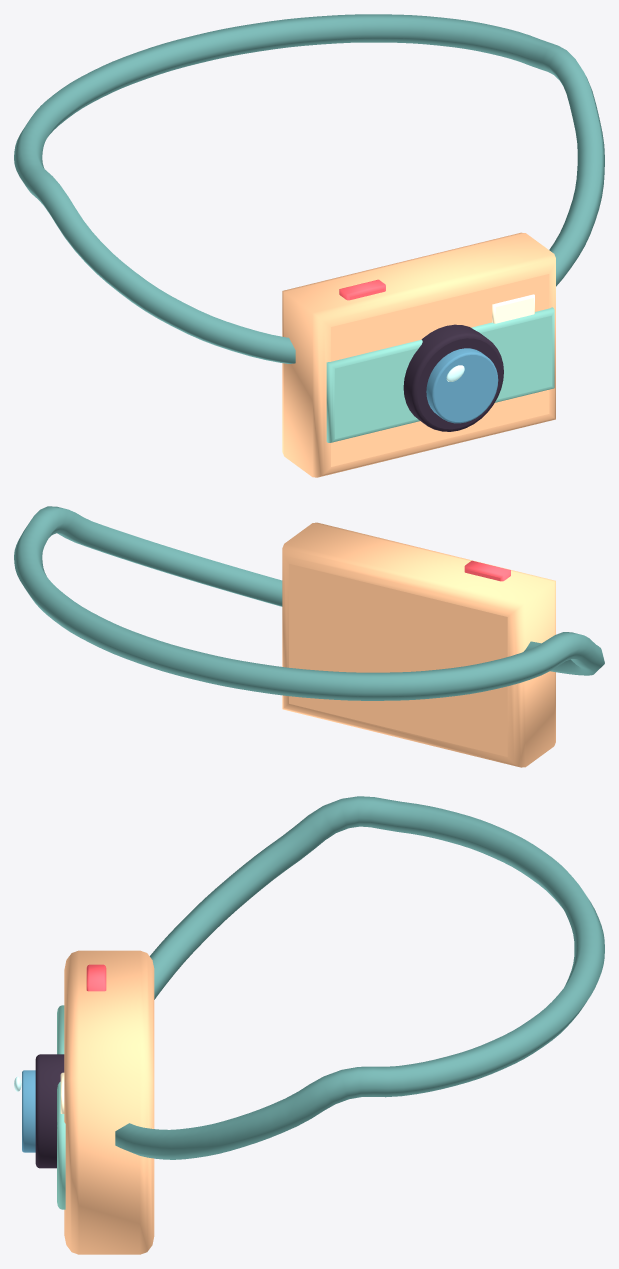
The model's file is pocket_camera.glb.
3 views of the same model, one above another, from view 1: azimuth 30°, elevation 25°; view 2: azimuth 150°, elevation 25°; view 3: azimuth 270°, elevation 25° (orthographic). The views are drawn at different scales.
Parts seen in each view (by area): view 1: Pocket Paparazzi; view 2: Pocket Paparazzi; view 3: Pocket Paparazzi.
Boxes of the visible parts, left/top/right/bottom form: Pocket Paparazzi: left=14, top=14, right=604, bottom=477; Pocket Paparazzi: left=14, top=506, right=604, bottom=767; Pocket Paparazzi: left=14, top=796, right=604, bottom=1254.
Bounding box in the file's own units: 1 × 0.4212 × 0.8795.
